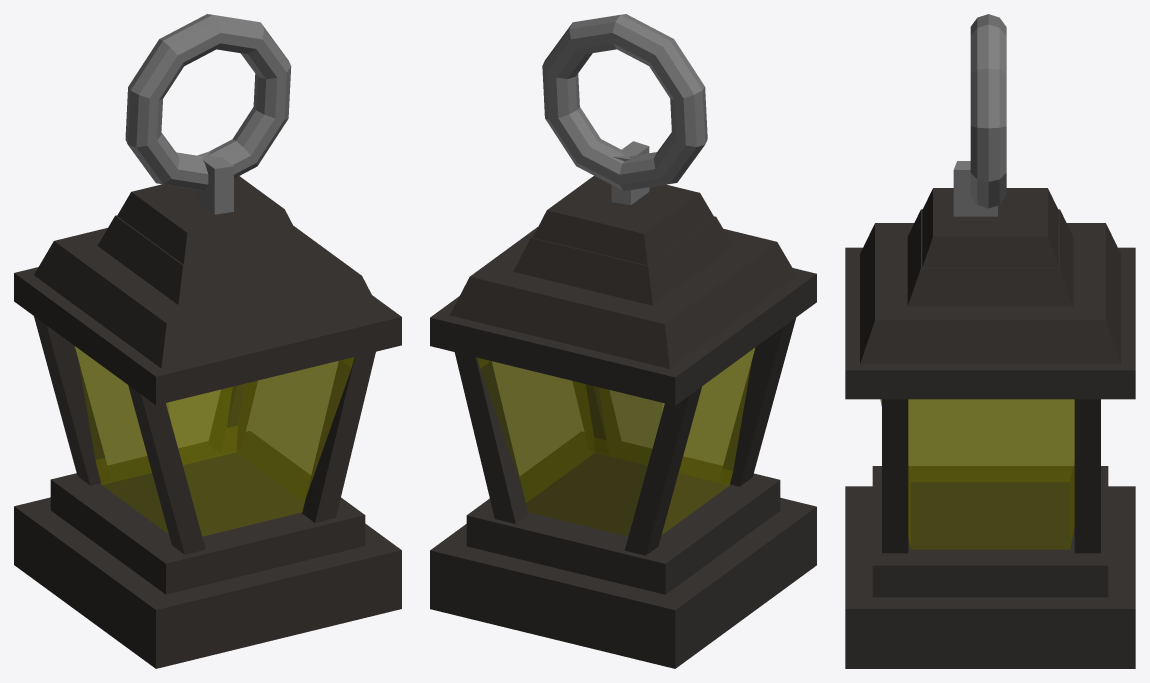
The model's file is LowPolyLantern.fbx.
3 renders of one model, left to right at view 1: azimuth 30°, elevation 25°; view 2: azimuth 150°, elevation 25°; view 3: azimuth 270°, elevation 25°, orthographic. The views are drawn at different scales.
Visible parts, largest first — view 1: LowPolyLantern1; view 2: LowPolyLantern1; view 3: LowPolyLantern1.
Part boxes in pixels (x1,y1,x2,y2): LowPolyLantern1: (14,14,401,668); LowPolyLantern1: (430,14,816,668); LowPolyLantern1: (845,14,1135,668).
Bounding box in the file's own units: 163 × 362 × 163.
